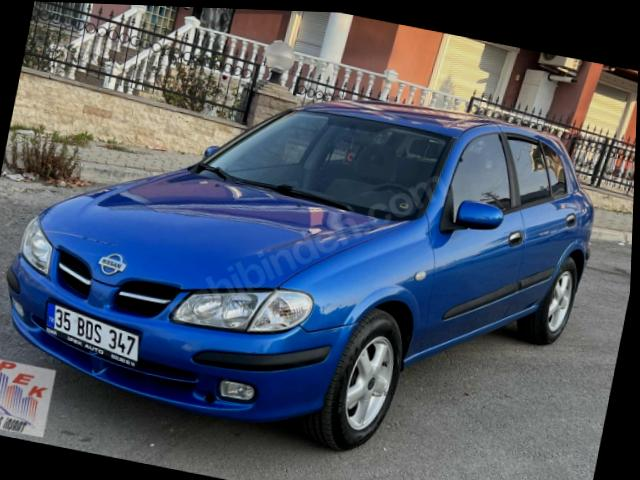plaka: (45, 302, 139, 367)
